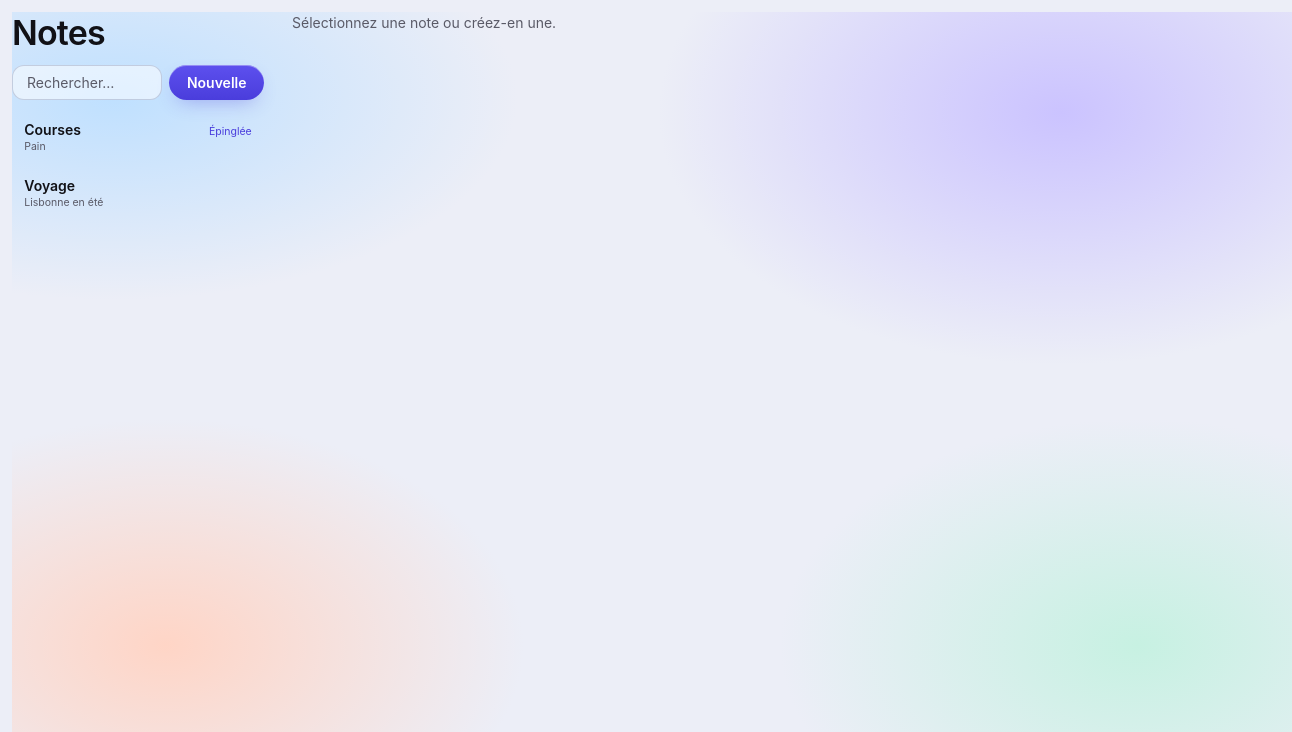
Test: NotesPage › affiche les épinglées en premier et filtre instantanément
The image size is (1292, 732).
Check: the link "Courses Épinglée Pain" is shown, box [12, 110, 264, 163]
Type "lisbonne" into the search field named "Rechercher dans les notes" at (87, 82), box [12, 65, 162, 100]
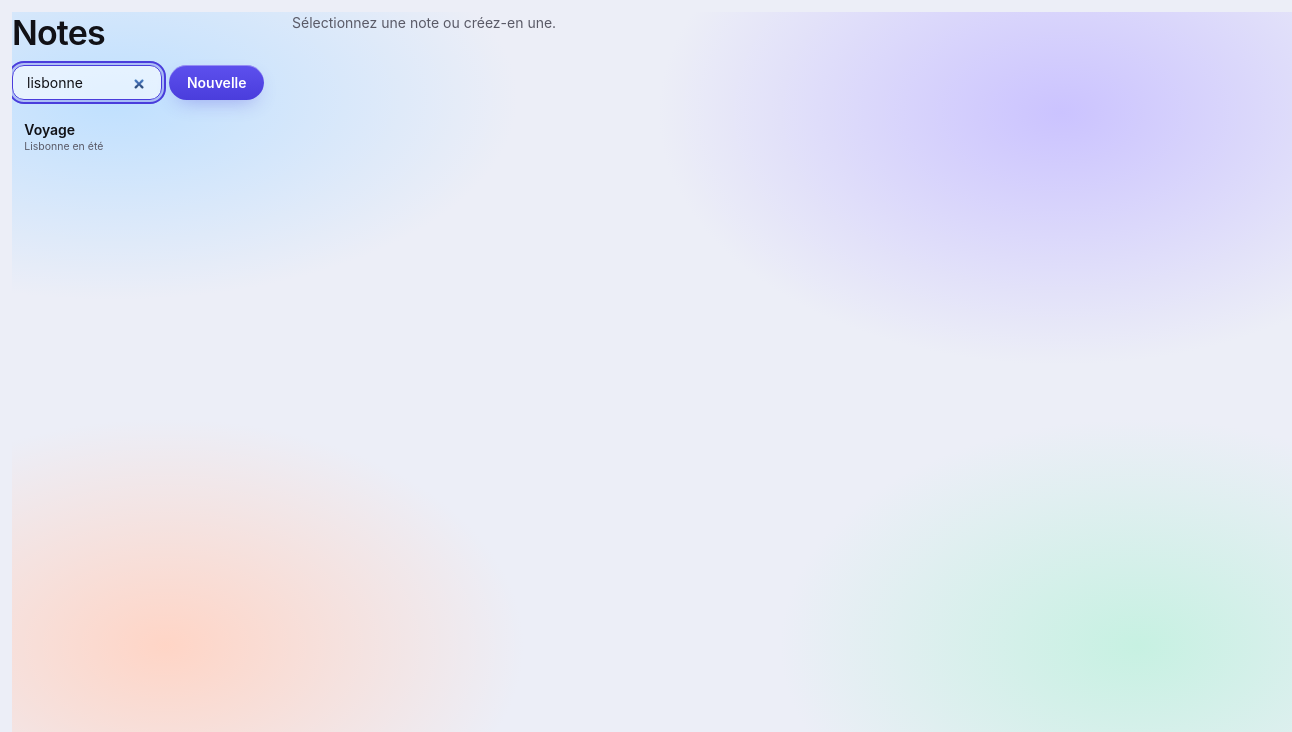
Check: the link shows "Voyage", box [24, 121, 103, 153]
Check: the number of links is 1, box [24, 121, 103, 153]
